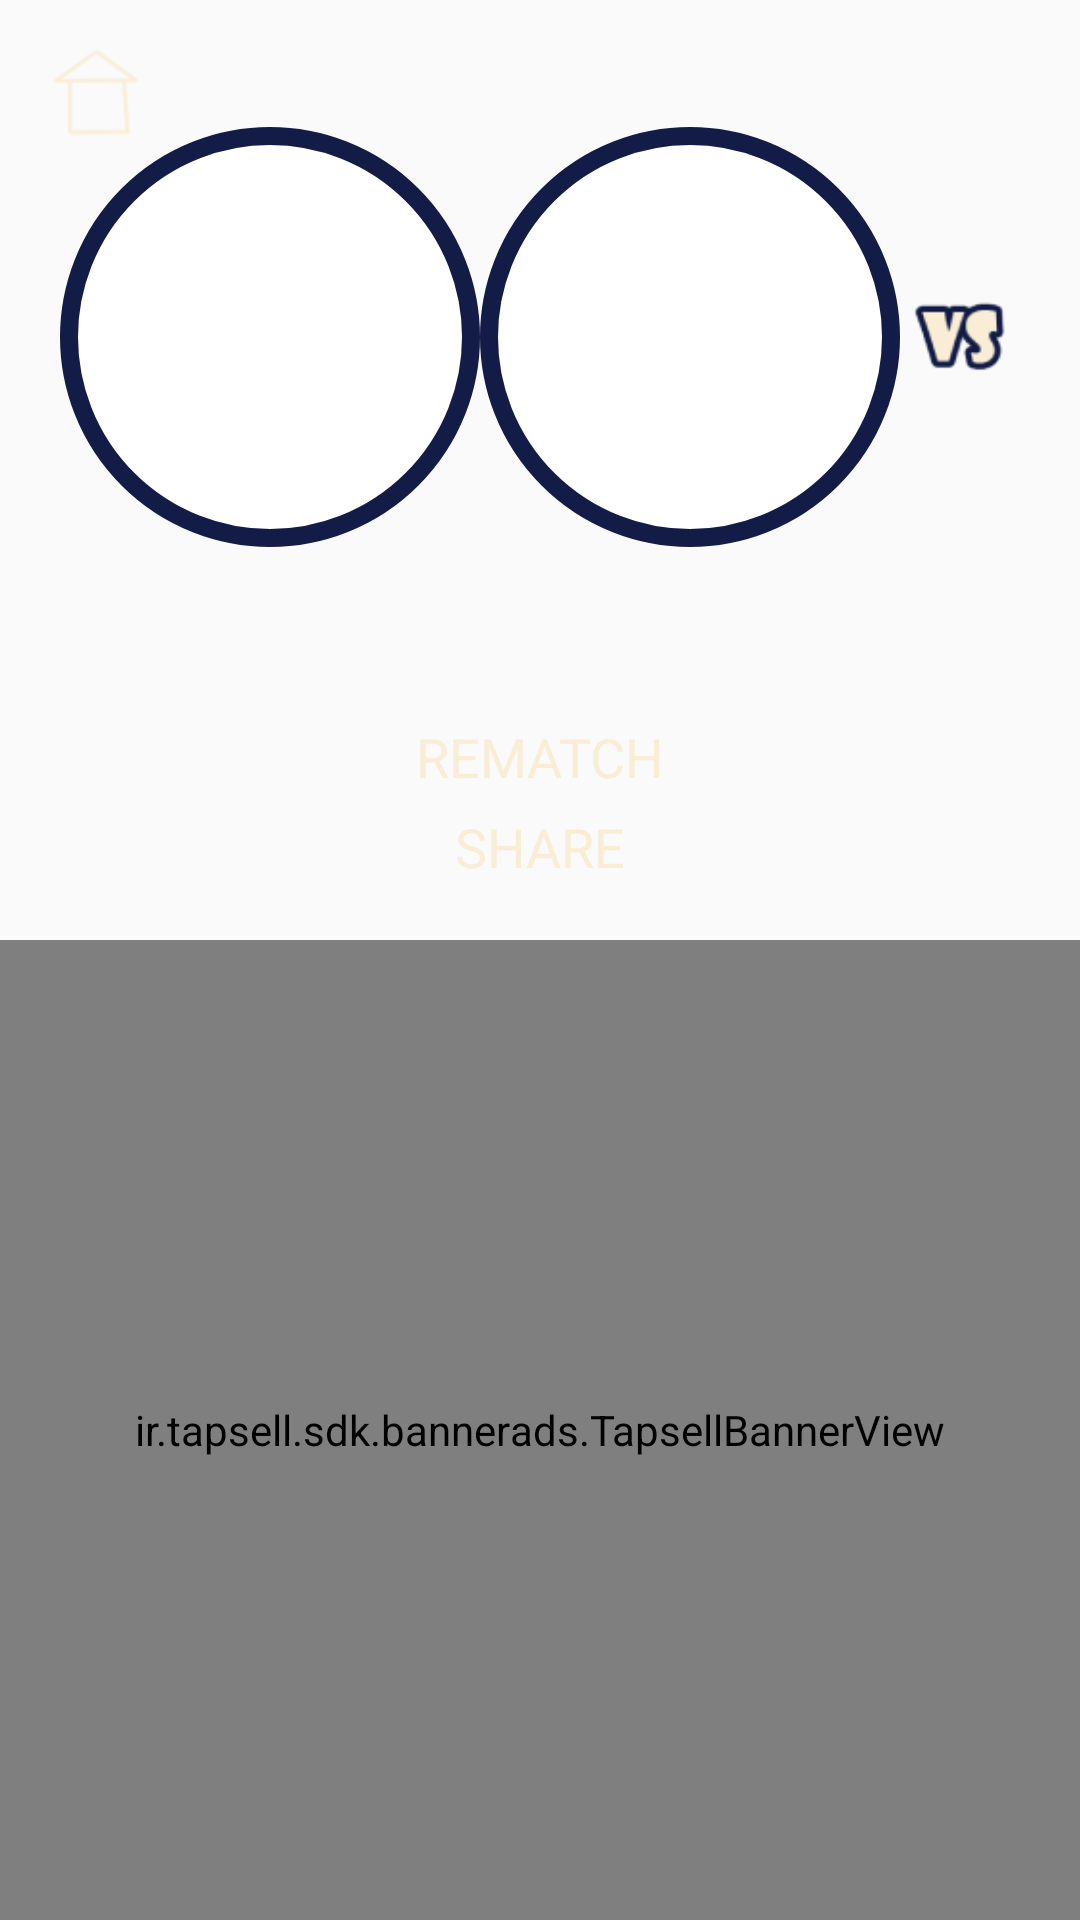

Icon bounding boxes for this 1080w x 1920h phone screenshot, format (x1, y1, x2, y2):
home: (55, 51, 136, 134)
